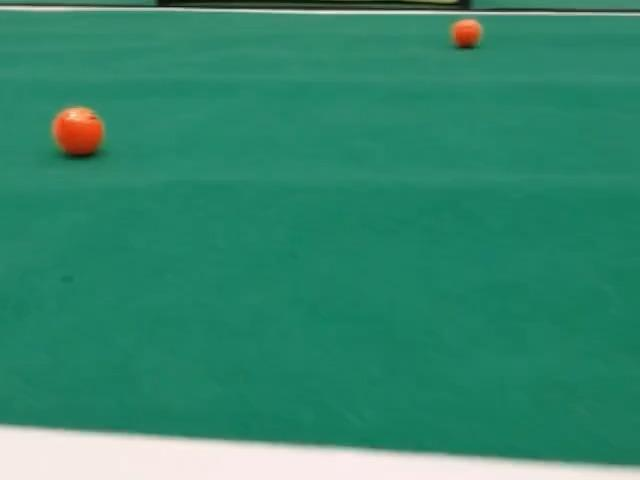Ball: (52, 107, 104, 156), (451, 19, 483, 49)
